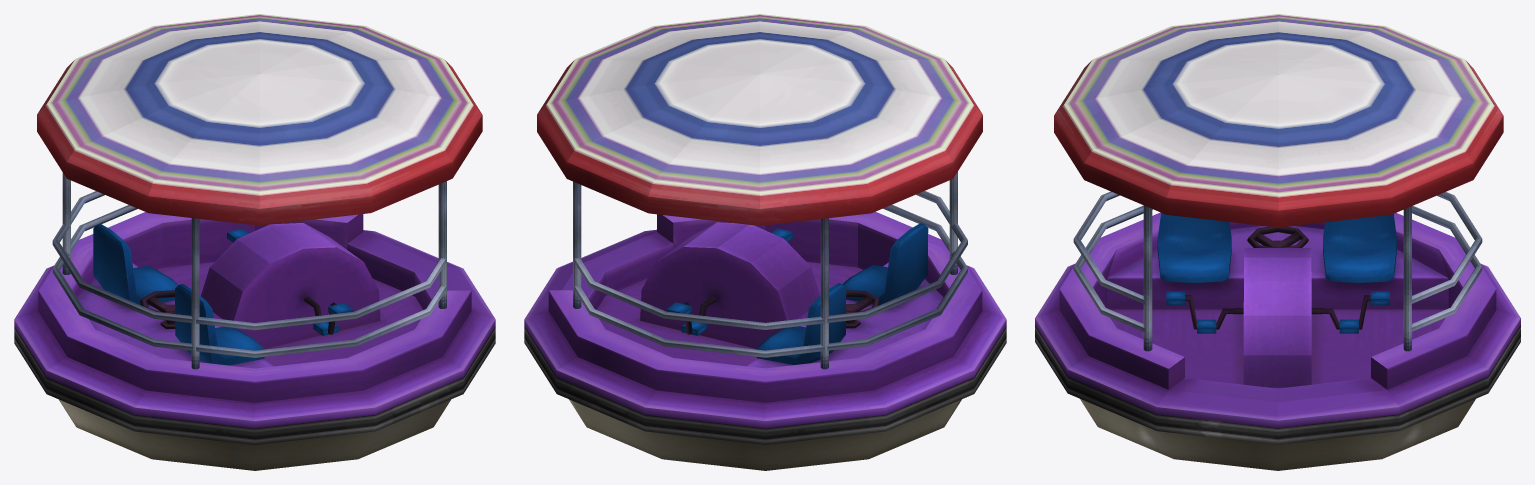
Rendered from furni_0201018.FBX.
The picture shows the model from 3 angles, left to right: view 1: azimuth 30°, elevation 25°; view 2: azimuth 150°, elevation 25°; view 3: azimuth 270°, elevation 25°; orthographic projection.
Parts seen in each view (by area): view 1: furni_0201018; view 2: furni_0201018; view 3: furni_0201018.
Boxes of the visible parts, x1,y1,x2,y2 form: furni_0201018: [14, 14, 495, 470]; furni_0201018: [524, 14, 1006, 470]; furni_0201018: [1035, 14, 1520, 470].
Size of the model in its own units: 463 by 327 by 463.
Materials: 1 (1 with a texture image).
